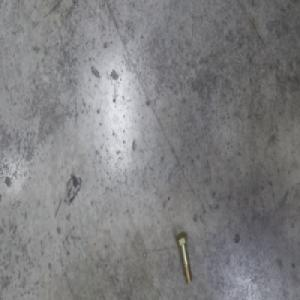Bolt: (174, 229, 192, 283)
